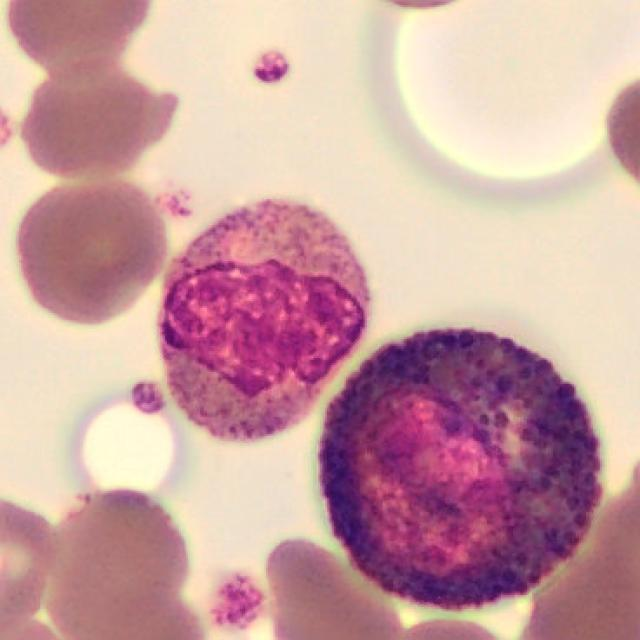Bastonete: (158, 199, 372, 443)
Promielocito: (317, 330, 603, 611)
